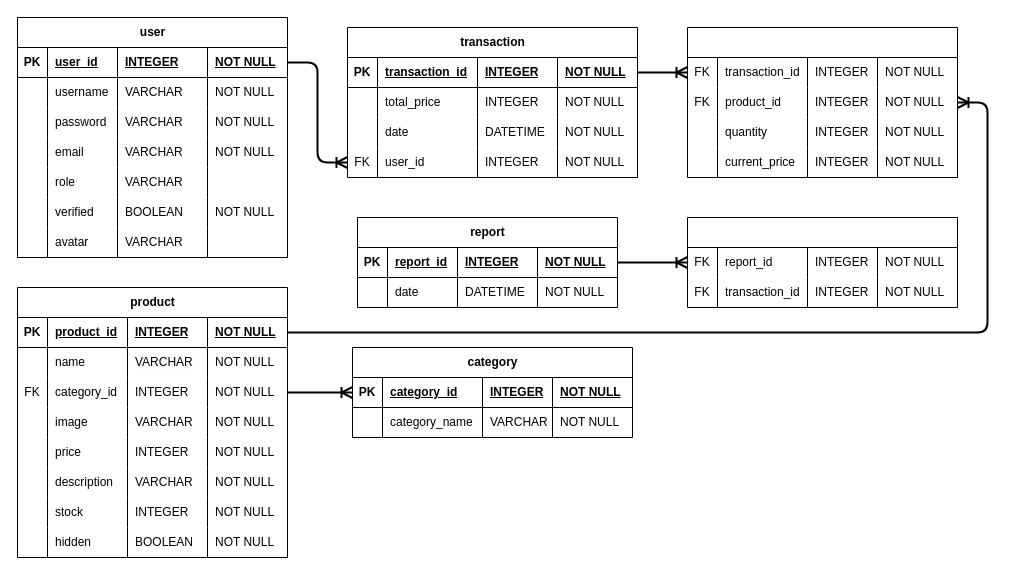
Image size: 1016x575. Some labels were removed from this diagram. The box of each missing label's shape, as (x1, y1, x2, y2) in pixels:
transaction_product: (686, 26, 958, 178)
transaction_report: (686, 216, 958, 308)
